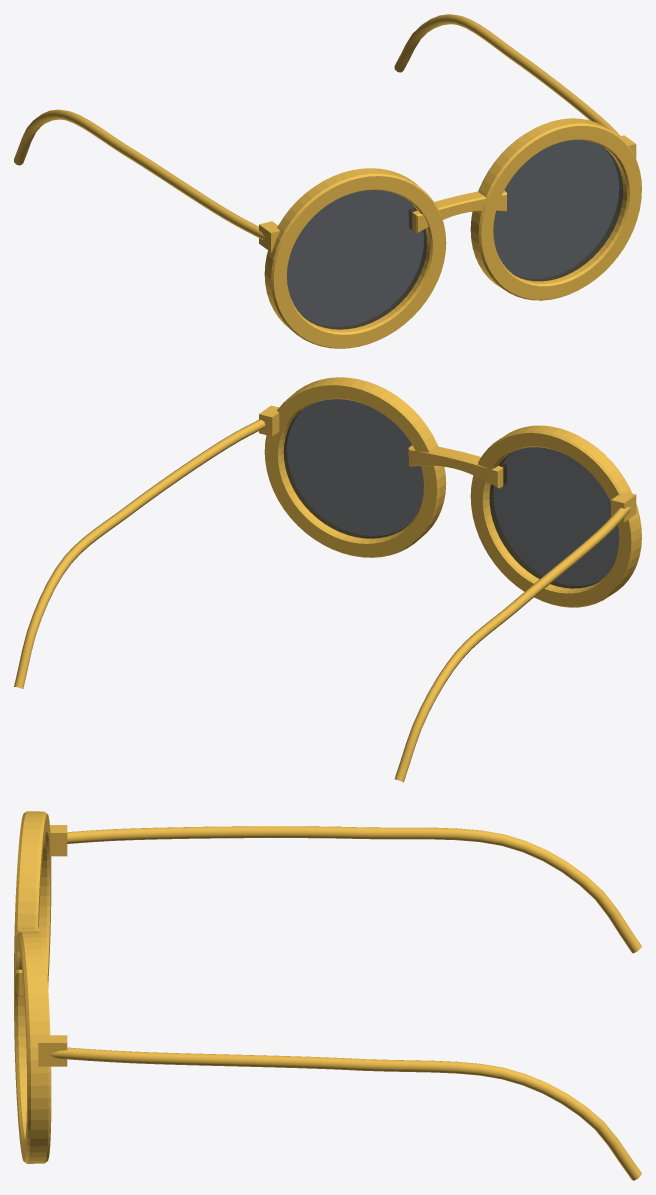
Rendered from NY-K05_Sunny_Sunflower_Grey_lens.glb.
3 views of the same model, one above another, from view 1: azimuth 30°, elevation 25°; view 2: azimuth 150°, elevation 25°; view 3: azimuth 270°, elevation 25° (orthographic). The views are drawn at different scales.
Parts seen in each view (by area): view 1: Sunny_Sunflower_Grey_lens_Acetate, Sunny_Sunflower_Grey_lens_Lenses; view 2: Sunny_Sunflower_Grey_lens_Acetate, Sunny_Sunflower_Grey_lens_Lenses; view 3: Sunny_Sunflower_Grey_lens_Acetate.
Part boxes in pixels (left/top/right/bottom): Sunny_Sunflower_Grey_lens_Acetate: left=14, top=14, right=641, bottom=348; Sunny_Sunflower_Grey_lens_Lenses: left=287, top=140, right=623, bottom=329; Sunny_Sunflower_Grey_lens_Acetate: left=14, top=377, right=641, bottom=782; Sunny_Sunflower_Grey_lens_Lenses: left=283, top=399, right=619, bottom=588; Sunny_Sunflower_Grey_lens_Acetate: left=14, top=811, right=641, bottom=1180.
Size of the model in its own units: 0.1241 by 0.0508 by 0.138.
